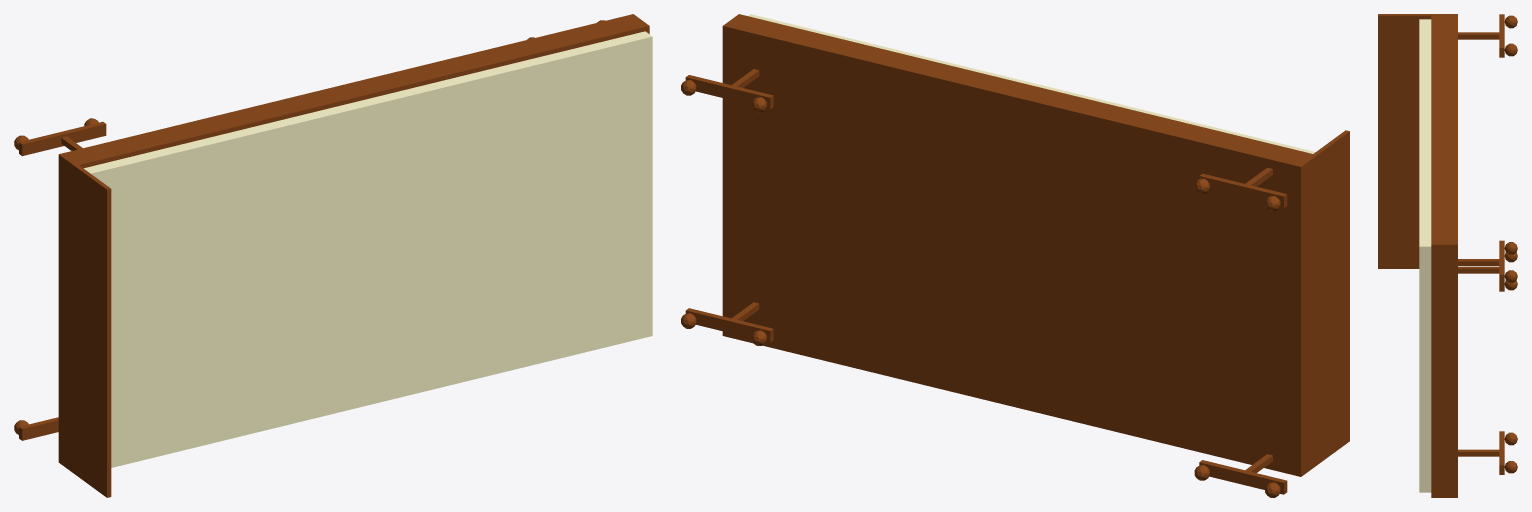
The model's file is nil_link_mesh.dae.
The picture shows the model from 3 angles, left to right: view 1: azimuth 30°, elevation 25°; view 2: azimuth 150°, elevation 25°; view 3: azimuth 270°, elevation 25°; orthographic projection. The views are drawn at different scales.
Visible parts, largest first — view 1: nil_link (×7); view 2: nil_link (×14); view 3: nil_link (×10).
Part boxes in pixels (box(x1,y1,x2,y2)): nil_link (×7): box(14, 14, 652, 497); nil_link (×14): box(681, 14, 1349, 497); nil_link (×10): box(1378, 14, 1517, 497).
Size of the model in its own units: 2.12 by 1.05 by 0.525.
